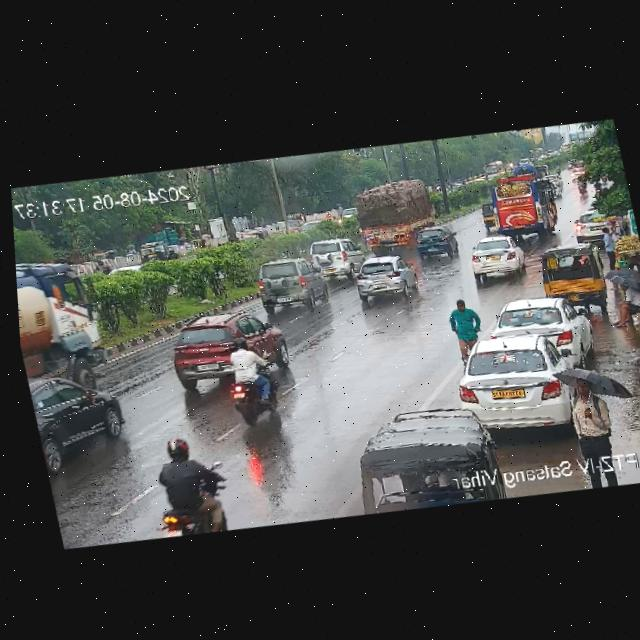bus: (492, 171, 564, 244)
car: (450, 328, 587, 442), (337, 402, 454, 520), (156, 301, 287, 393), (28, 365, 143, 462), (484, 289, 595, 371), (534, 239, 612, 311), (252, 254, 331, 319), (347, 250, 419, 304), (465, 230, 531, 286), (317, 235, 362, 282), (412, 225, 461, 262), (568, 206, 606, 244), (141, 239, 170, 264), (479, 201, 497, 232), (240, 228, 271, 243), (608, 218, 622, 236)
motorcycle: (141, 439, 240, 542), (223, 331, 289, 430), (93, 256, 110, 276), (576, 176, 587, 194)
person: (565, 375, 607, 457), (444, 297, 487, 354), (604, 279, 640, 334), (600, 227, 620, 269)
truck: (16, 270, 103, 383)
